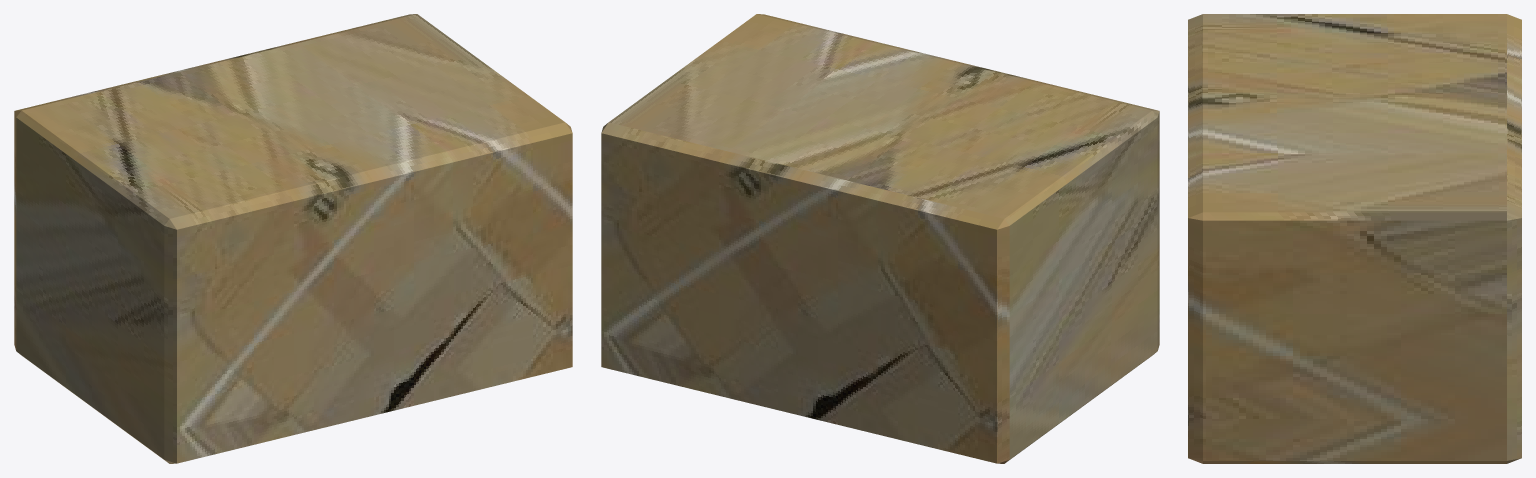
File: shotgun.glb
3 renders of one model, left to right at view 1: azimuth 30°, elevation 25°; view 2: azimuth 150°, elevation 25°; view 3: azimuth 270°, elevation 25°, orthographic. The views are drawn at different scales.
Visible parts, largest first — view 1: 9mm-box; view 2: 9mm-box; view 3: 9mm-box.
Boxes of the visible parts, bbox=[...] form: 9mm-box: bbox=[14, 14, 572, 463]; 9mm-box: bbox=[601, 14, 1159, 463]; 9mm-box: bbox=[1188, 14, 1521, 463].
Bounding box in the file's own units: 0.26 × 0.1498 × 0.18.
Materials: 1 (1 with a texture image).
